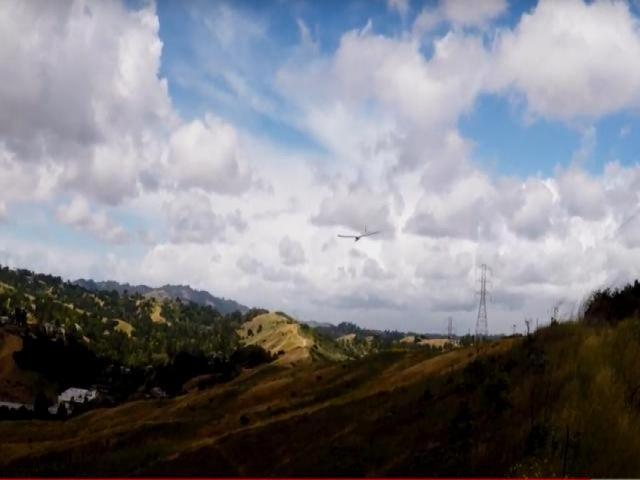iha: (336, 216, 386, 245)
